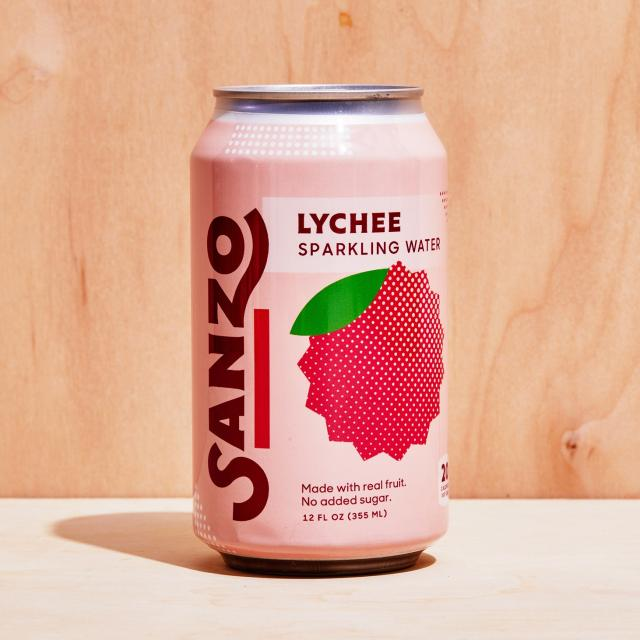Cans: (188, 80, 454, 578)
